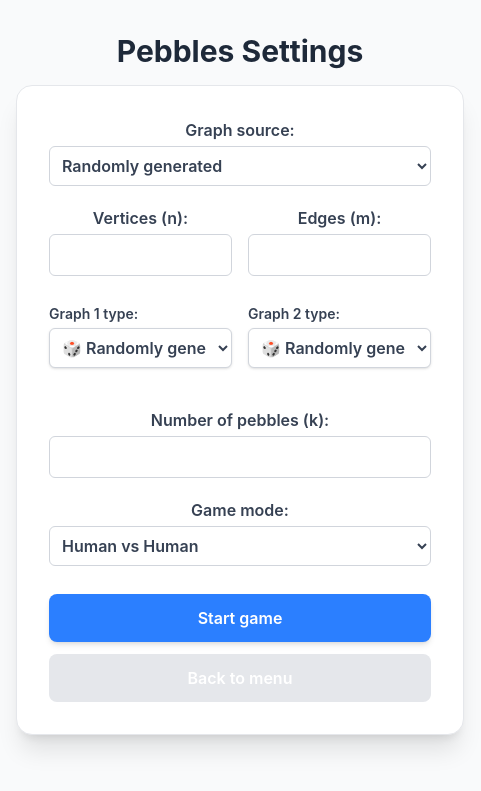
Test case: PebblesMenu View › error when game is started without given k
Step 1. Click the button "Start game" → (240, 618), box [49,594,431,642]
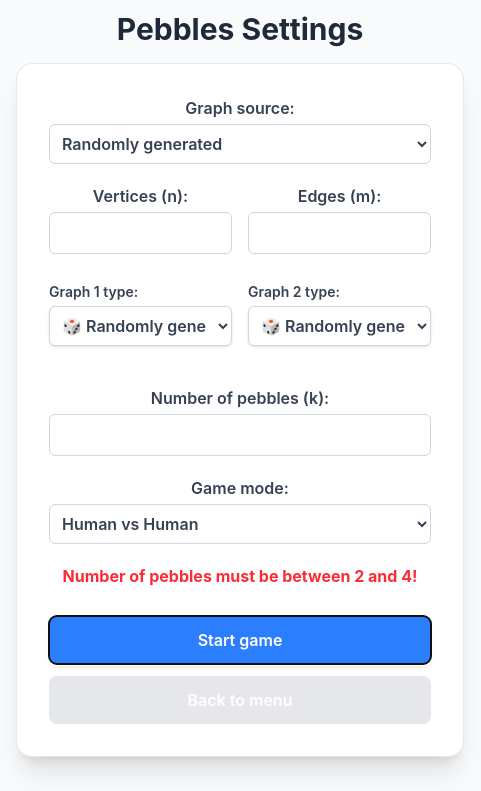
Expected: the text "Number of pebbles must be between 2 and 4!" is shown, [63,564,417,588]
